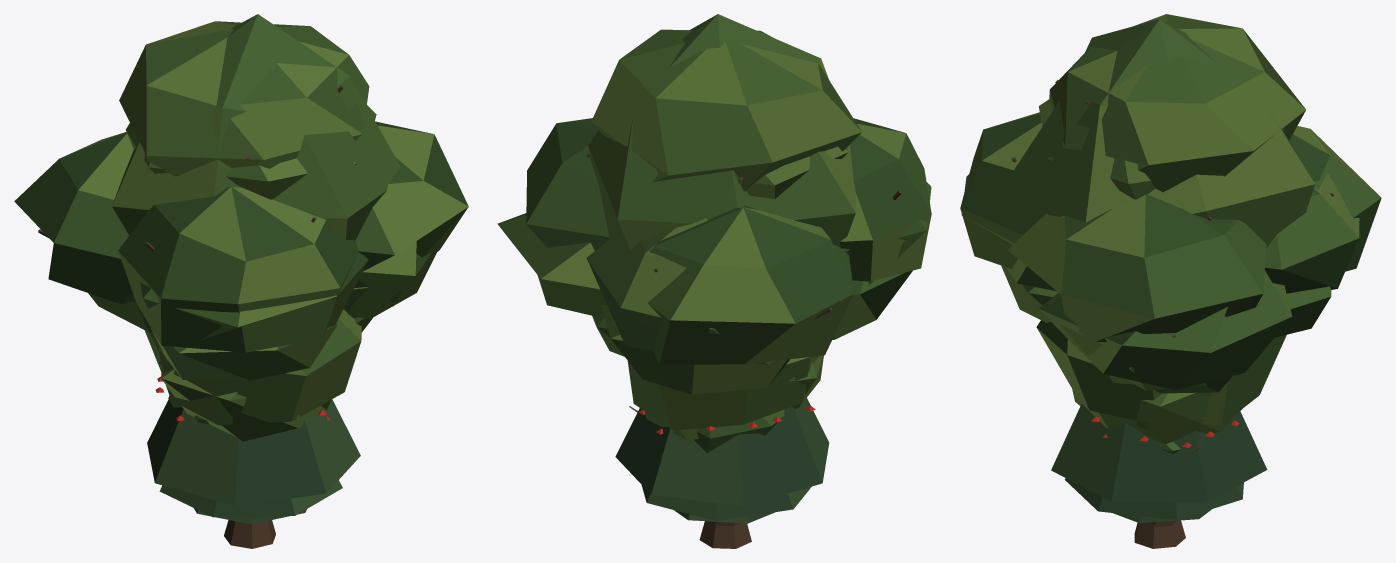
File: natur_baeume.glb
3 renders of one model, left to right at view 1: azimuth 30°, elevation 25°; view 2: azimuth 150°, elevation 25°; view 3: azimuth 270°, elevation 25°, orthographic.
Visible parts, largest first — view 1: Eiche3, Buche1, Tanne1, Eiche1, Linde1, Eiche2, Linde2, Tanne2; view 2: Eiche3, Buche1, Eiche1, Tanne1, Eiche2, Linde1, Tanne2, Apfelbaum1, Linde2; view 3: Eiche3, Eiche1, Buche1, Tanne1, Linde1, Linde2, Eiche2, Tanne2, Buche2.
Part boxes in pixels (box(x1,y1,x2,y2)): Eiche3: box(14, 21, 468, 522); Buche1: box(112, 14, 400, 240); Tanne1: box(147, 360, 360, 505); Eiche1: box(125, 105, 436, 548); Linde1: box(144, 309, 361, 425); Eiche2: box(88, 286, 404, 380); Linde2: box(161, 367, 330, 441); Tanne2: box(159, 480, 342, 517); Eiche3: box(526, 29, 931, 526); Buche1: box(588, 14, 855, 249); Eiche1: box(497, 146, 931, 548); Tanne1: box(615, 376, 829, 506); Eiche2: box(569, 270, 912, 525); Linde1: box(627, 355, 823, 430); Tanne2: box(641, 485, 811, 520); Apfelbaum1: box(694, 403, 815, 452); Linde2: box(645, 355, 822, 440); Eiche3: box(960, 14, 1381, 341); Eiche1: box(961, 99, 1359, 548); Buche1: box(1008, 19, 1315, 248); Tanne1: box(1051, 404, 1267, 501); Linde1: box(1036, 320, 1286, 424); Linde2: box(1071, 385, 1241, 443); Eiche2: box(1001, 265, 1331, 527); Tanne2: box(1065, 478, 1243, 519); Buche2: box(1108, 375, 1232, 393).
Bounding box in the file's own units: 8.61 × 11.79 × 8.6.
